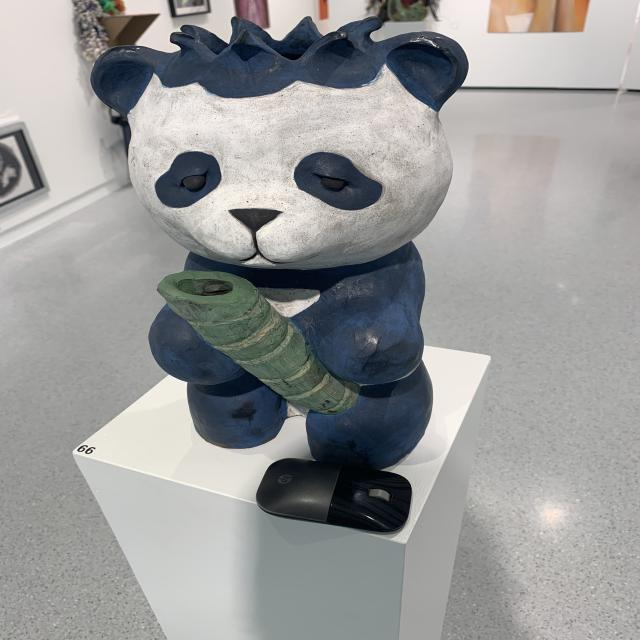Mouse: (254, 455, 418, 543)
